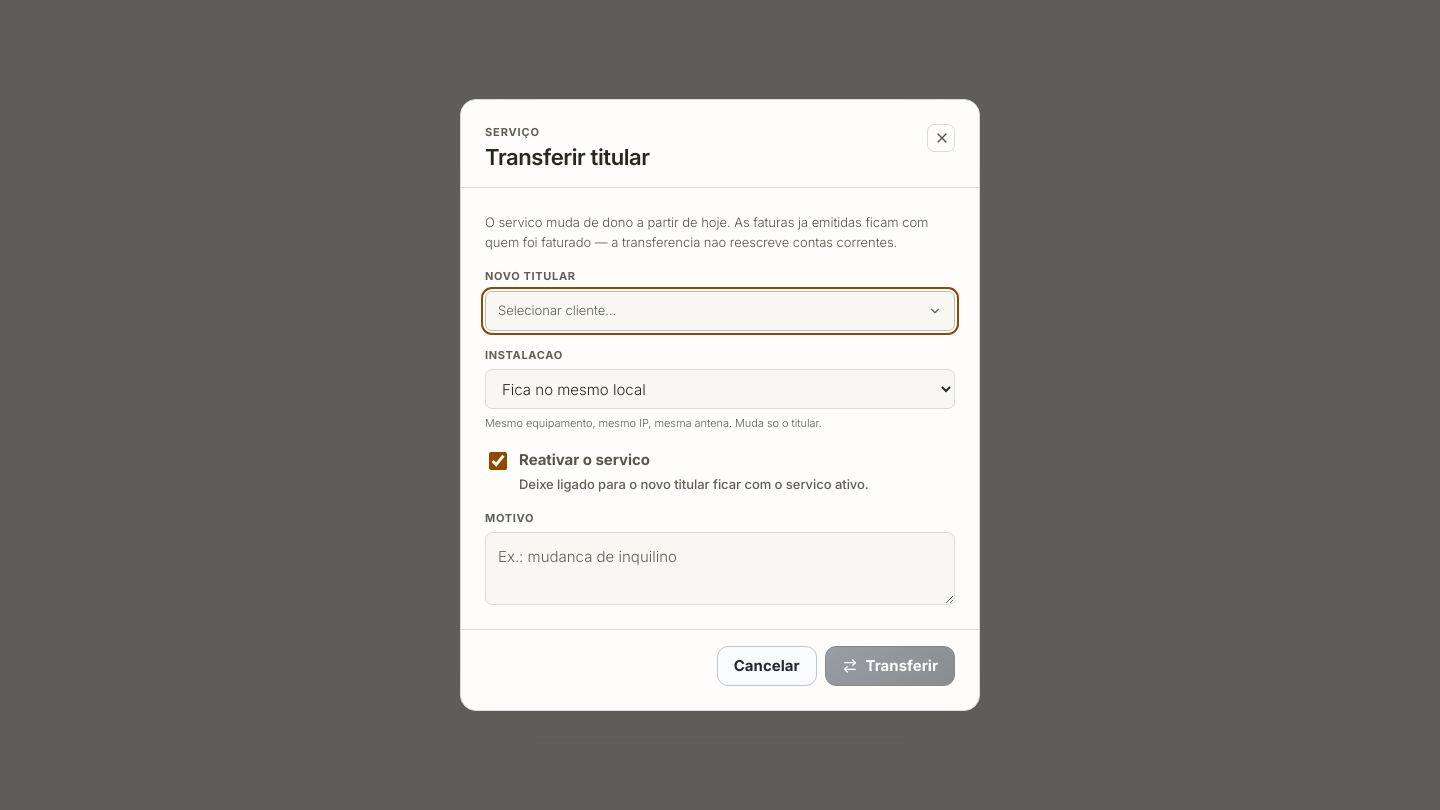
Test: TransferServiceDialog › mostra o erro do servidor sem fechar
Click the button "Selecionar cliente..." at (557, 310), box [485,290,955,330]
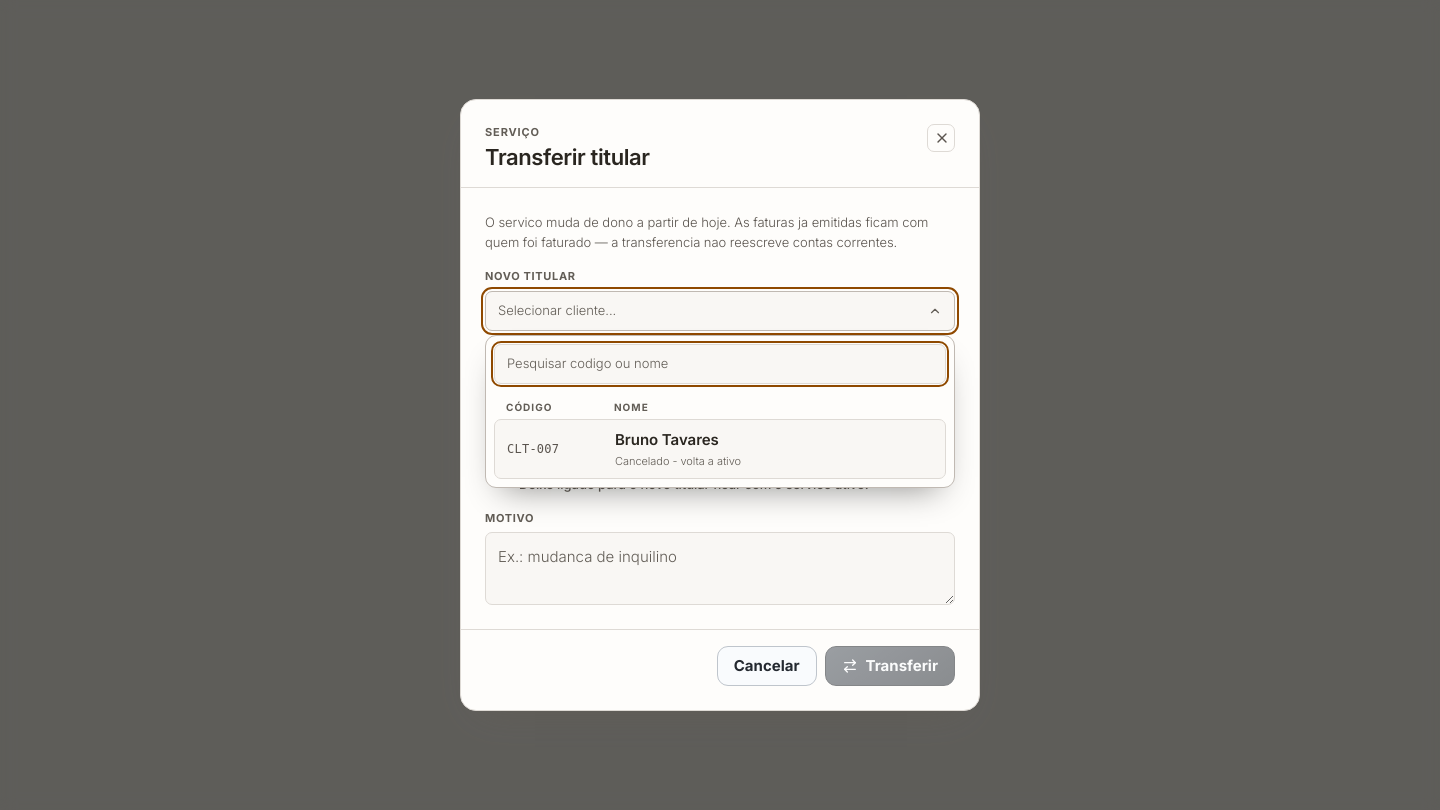
Press the mouse on the option "CLT-007 Bruno Tavares Cancelado - volta a ativo" at (720, 449), box [494,419,946,479]
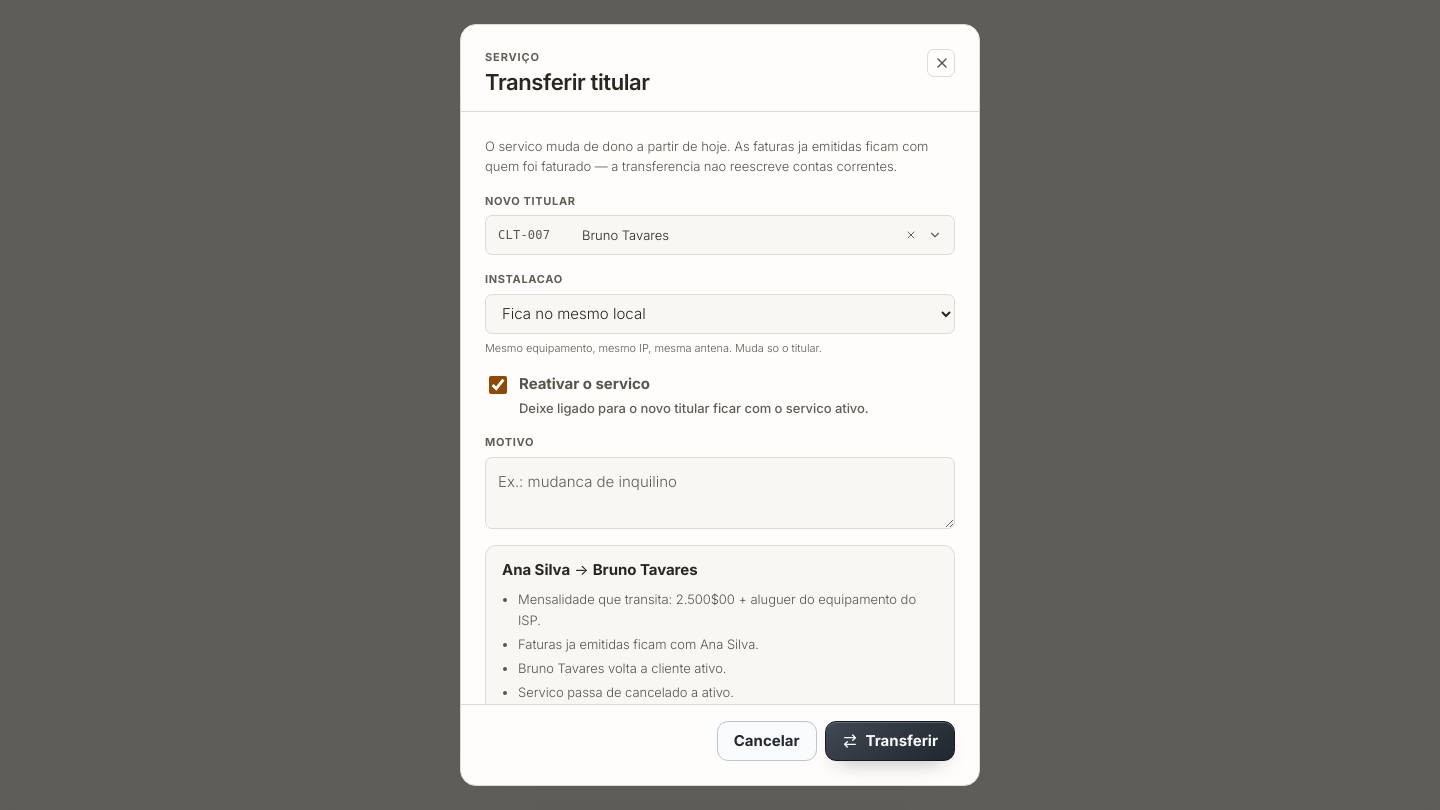
Click the button "Transferir" at (890, 741), box [824,721,955,761]
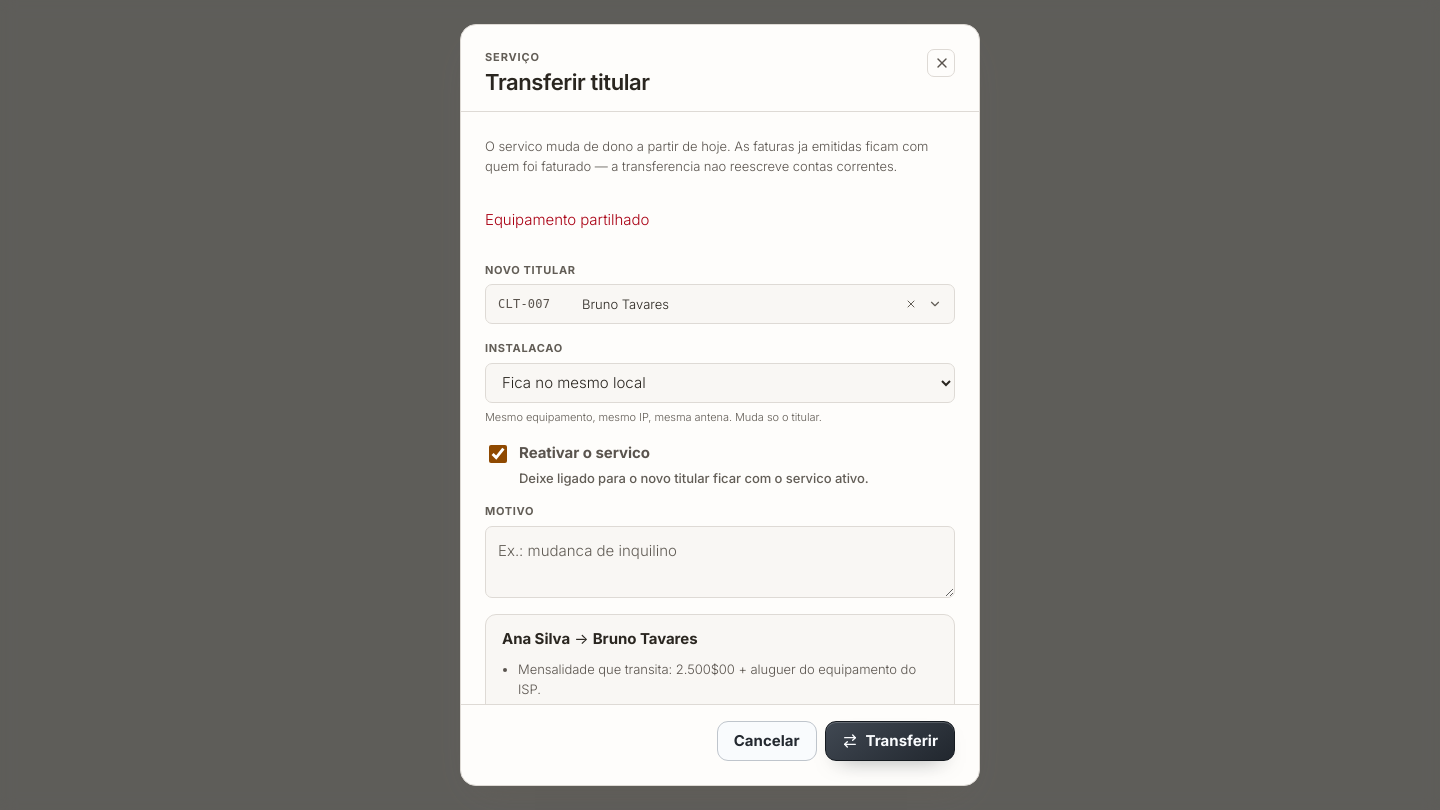
Expected: the text "Equipamento partilhado" is shown, [485,210,649,229]
